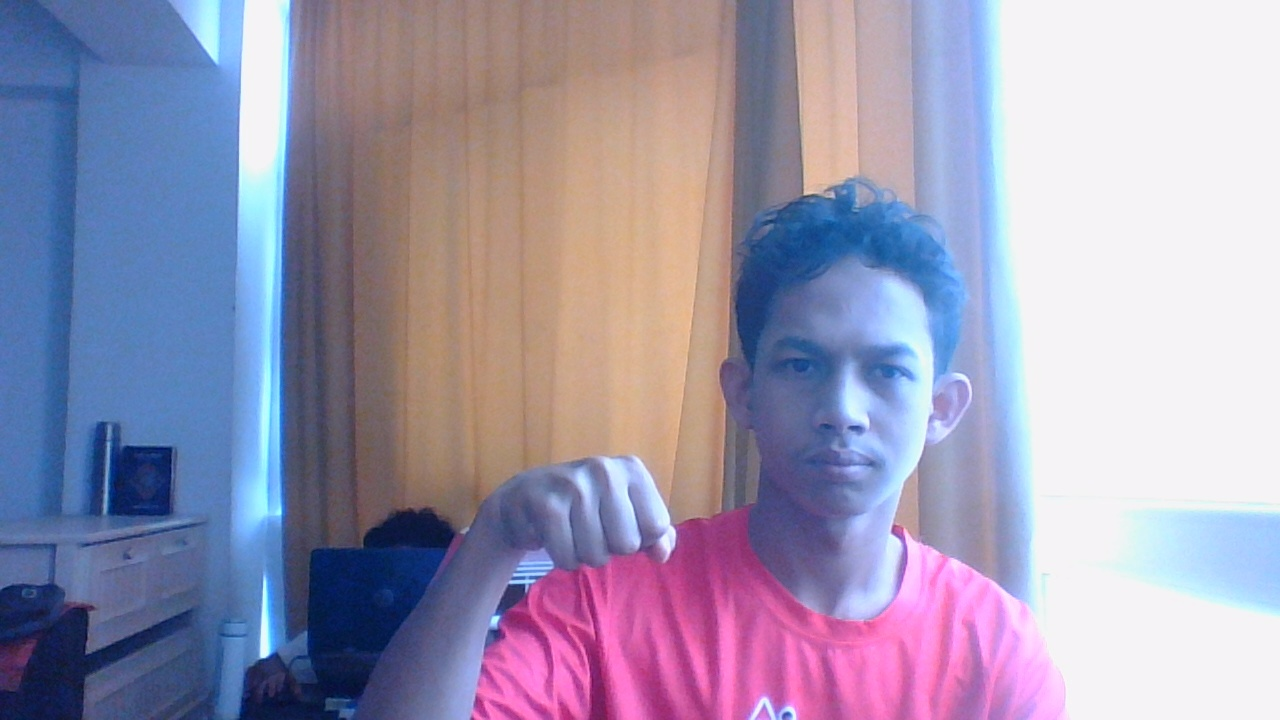yes: (471, 440, 723, 598)
